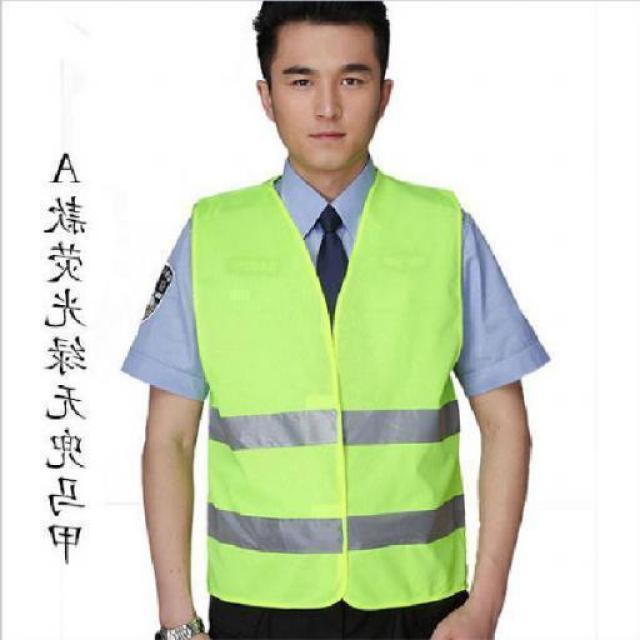vest: (178, 167, 468, 614)
